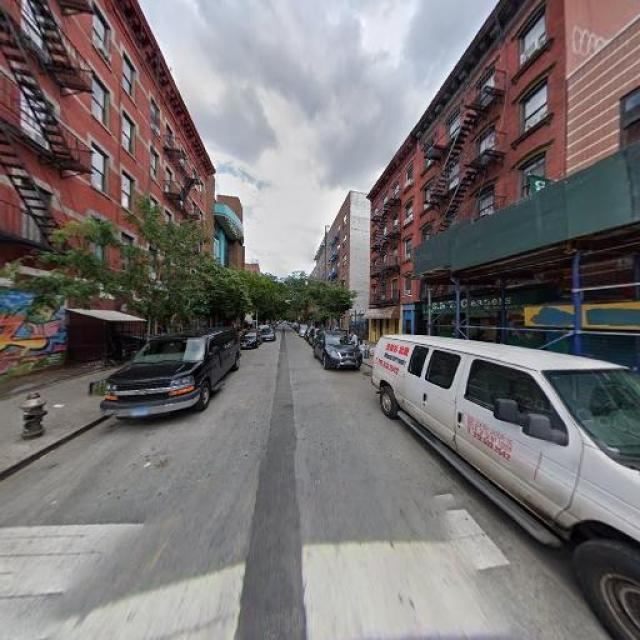Building: (1, 1, 204, 379), (418, 1, 567, 379), (573, 19, 640, 395), (372, 132, 414, 348)
